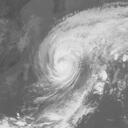cyclone: (38, 31, 85, 92)
